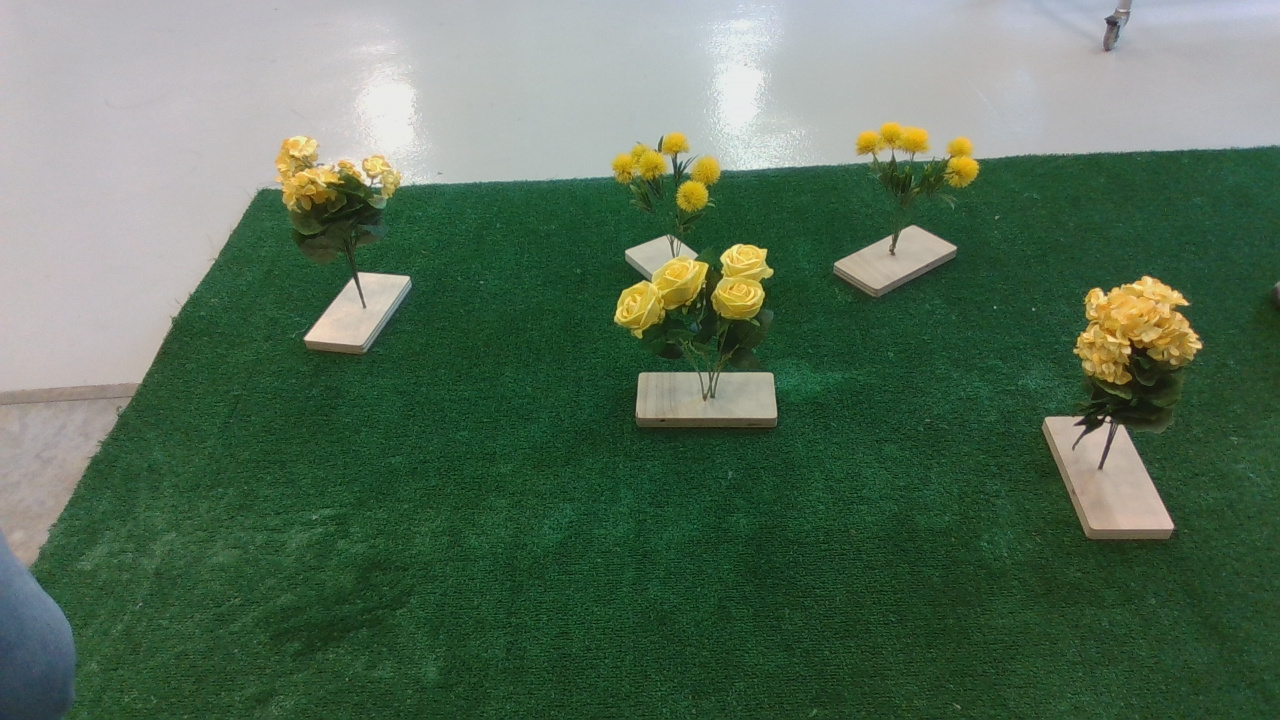dandelion: (848, 116, 994, 212), (605, 131, 745, 227)
geranium: (1065, 269, 1212, 451), (276, 136, 414, 282)
rose: (609, 247, 790, 353)
